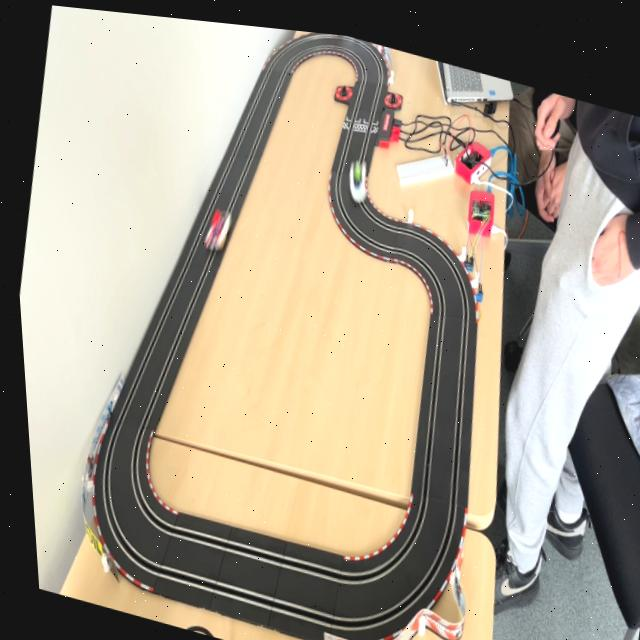mario: (194, 195, 233, 253)
yoshi: (341, 149, 371, 200)
